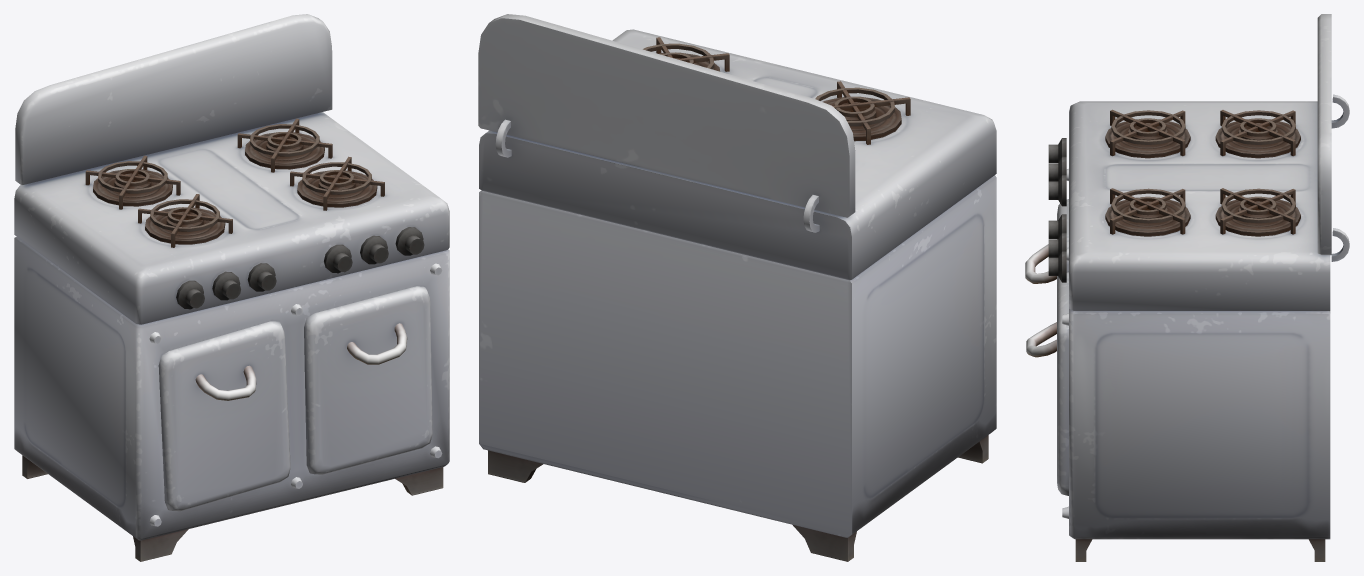
Rendered from KitchenStove01.FBX.
3 views of the same model, side by side, from view 1: azimuth 30°, elevation 25°; view 2: azimuth 150°, elevation 25°; view 3: azimuth 270°, elevation 25° (orthographic). The views are drawn at different scales.
Visible parts, largest first — view 1: KitchenStove01; view 2: KitchenStove01; view 3: KitchenStove01.
Boxes of the visible parts, x1,y1,x2,y2 form: KitchenStove01: [14, 14, 449, 561]; KitchenStove01: [478, 14, 996, 561]; KitchenStove01: [1025, 14, 1349, 561].
Size of what is drawn, in the model's own units: 1.06 by 1.27 by 0.9009.
